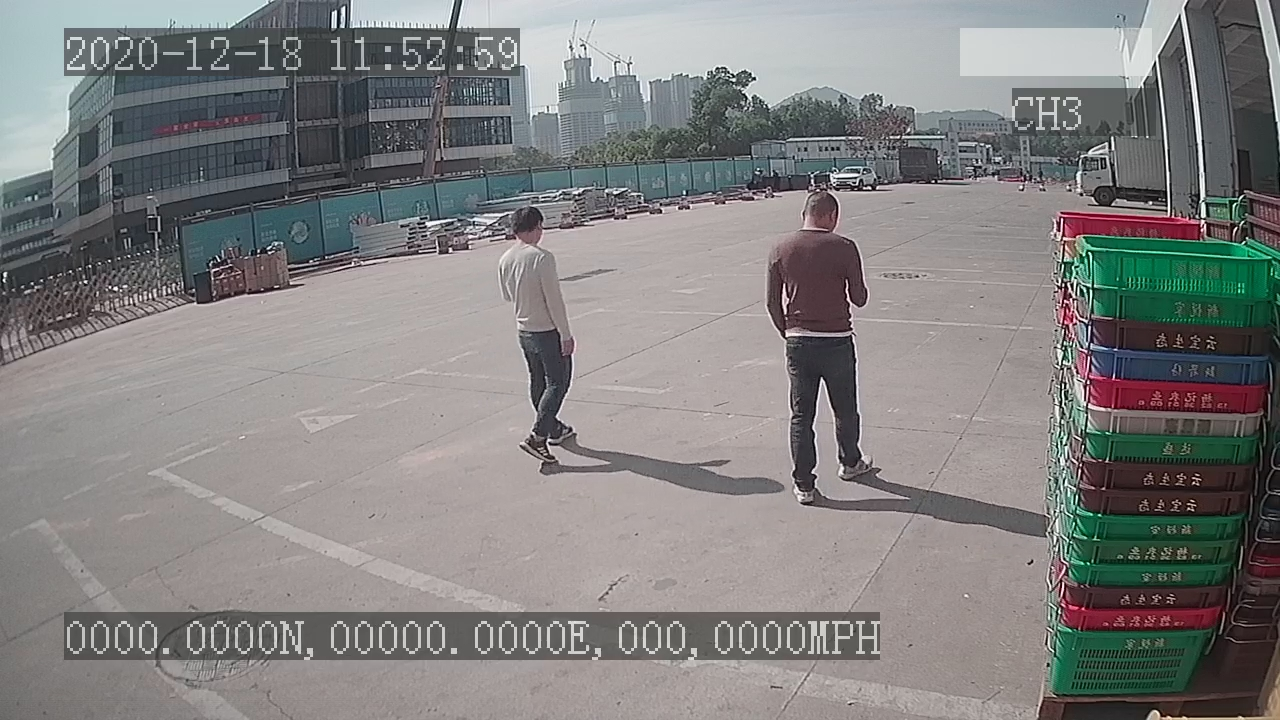person: (756, 185, 883, 506), (484, 201, 585, 476)
